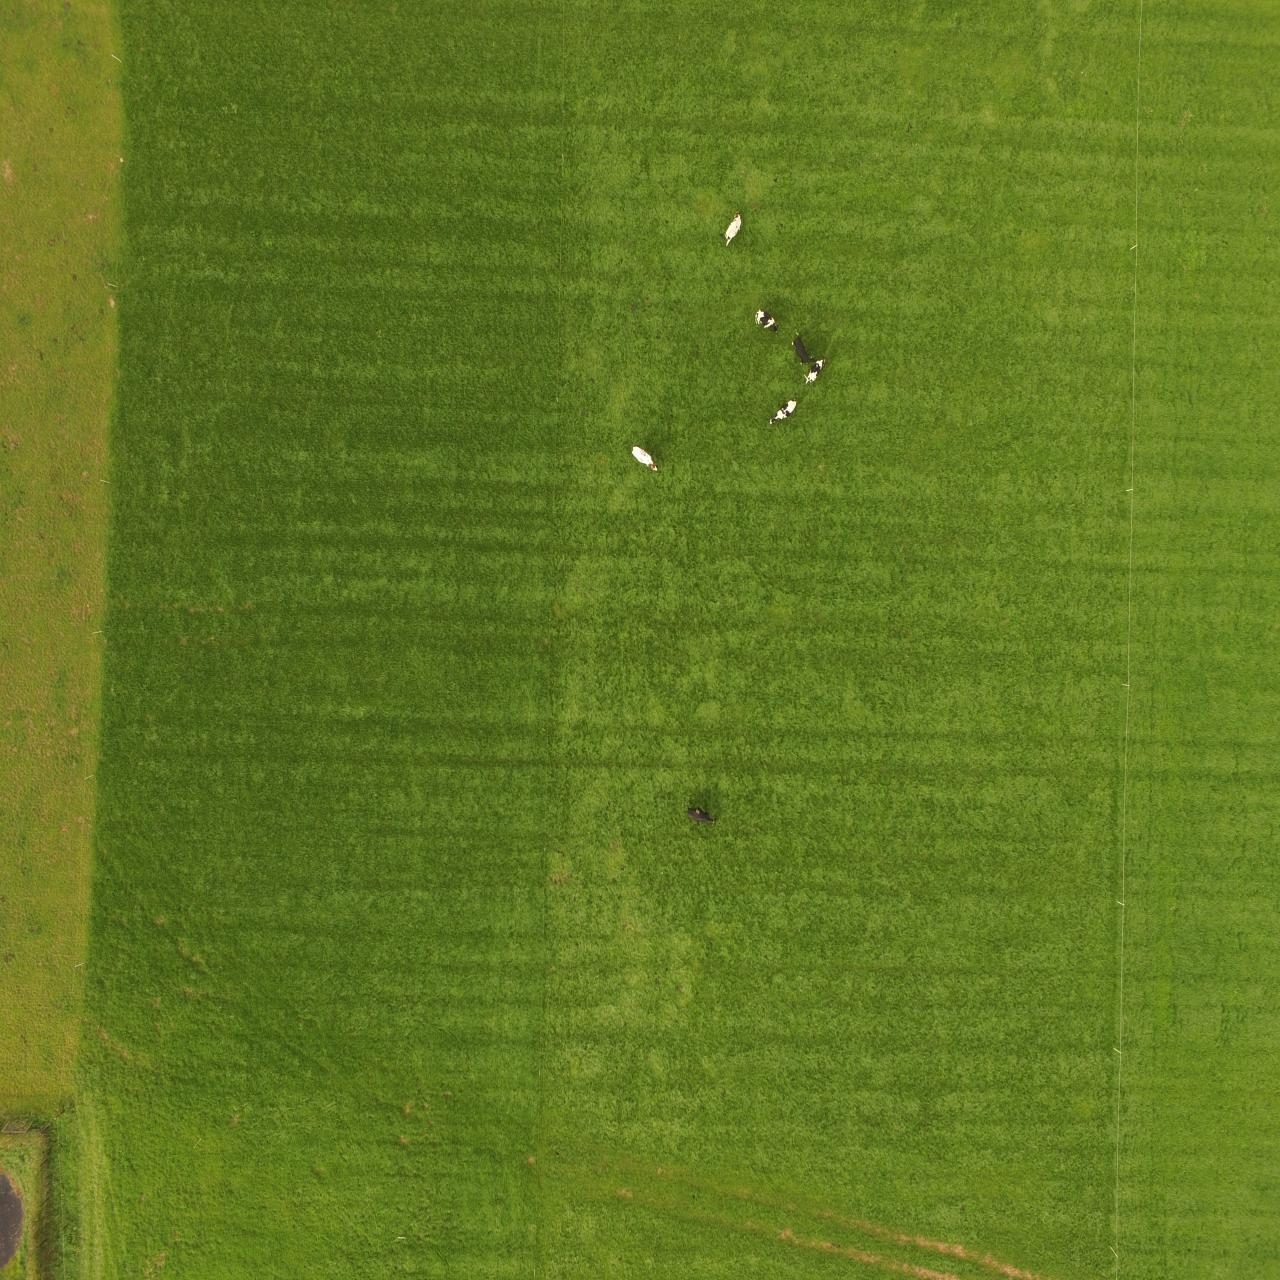cow: (627, 443, 665, 477), (767, 396, 798, 423), (721, 211, 742, 251), (685, 804, 717, 829), (750, 307, 779, 334), (795, 328, 815, 366), (802, 358, 828, 384)
